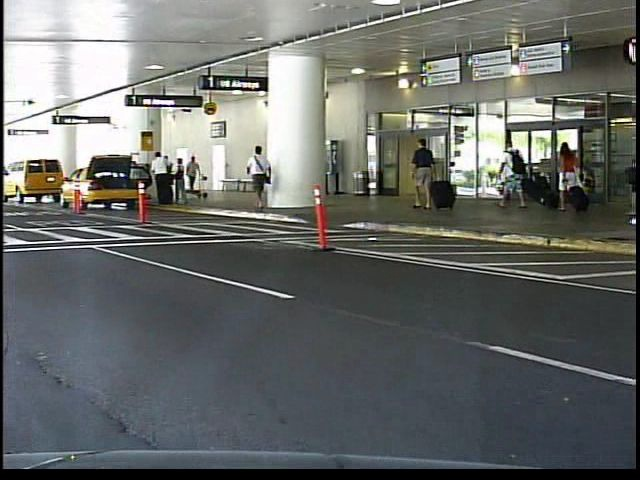person: (497, 133, 534, 213), (556, 133, 588, 220), (409, 135, 442, 211), (245, 142, 276, 215), (186, 154, 201, 197)
